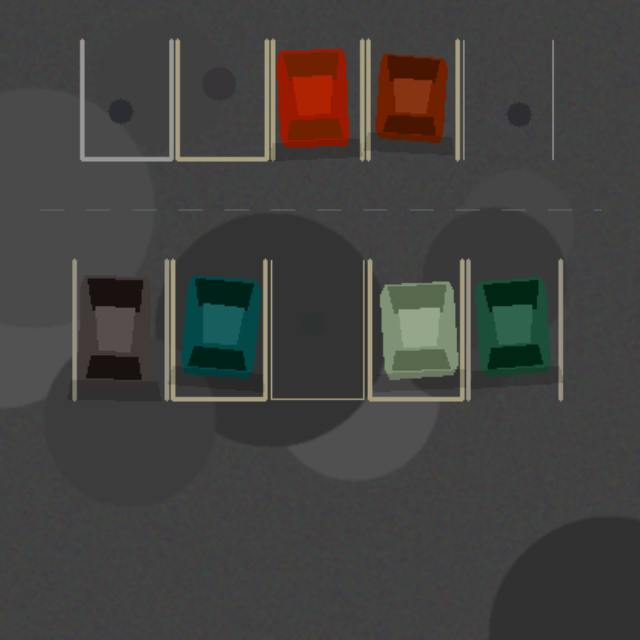space-empty: (271, 260, 363, 398), (82, 40, 171, 158), (177, 40, 266, 158), (463, 40, 552, 158)
space-occupied: (172, 260, 265, 398), (369, 260, 462, 398), (74, 260, 166, 398), (468, 260, 560, 398), (272, 40, 362, 158), (368, 40, 457, 158)
